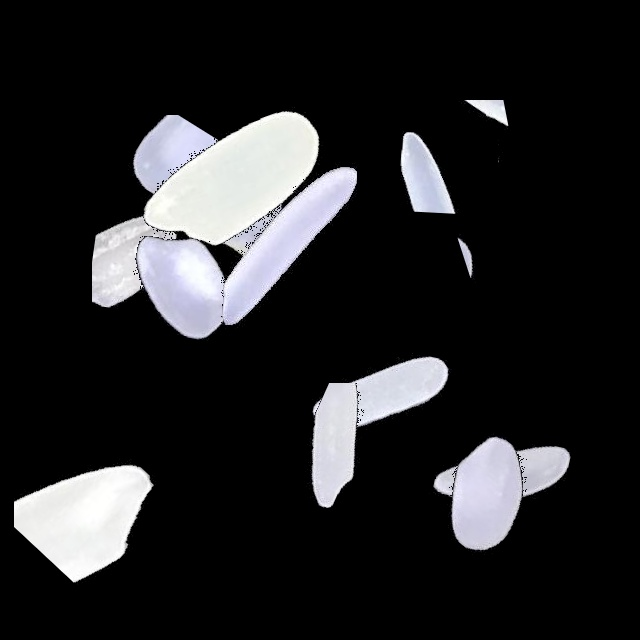Broken: (31, 115, 281, 265), (252, 383, 502, 532), (14, 369, 163, 619), (92, 142, 239, 392), (386, 33, 496, 283), (342, 100, 592, 187), (385, 221, 635, 306), (498, 17, 576, 267)
Full: (378, 346, 628, 596), (362, 371, 612, 621), (255, 263, 505, 513), (119, 82, 369, 332), (110, 59, 360, 309), (58, 160, 308, 410), (165, 119, 415, 369)
